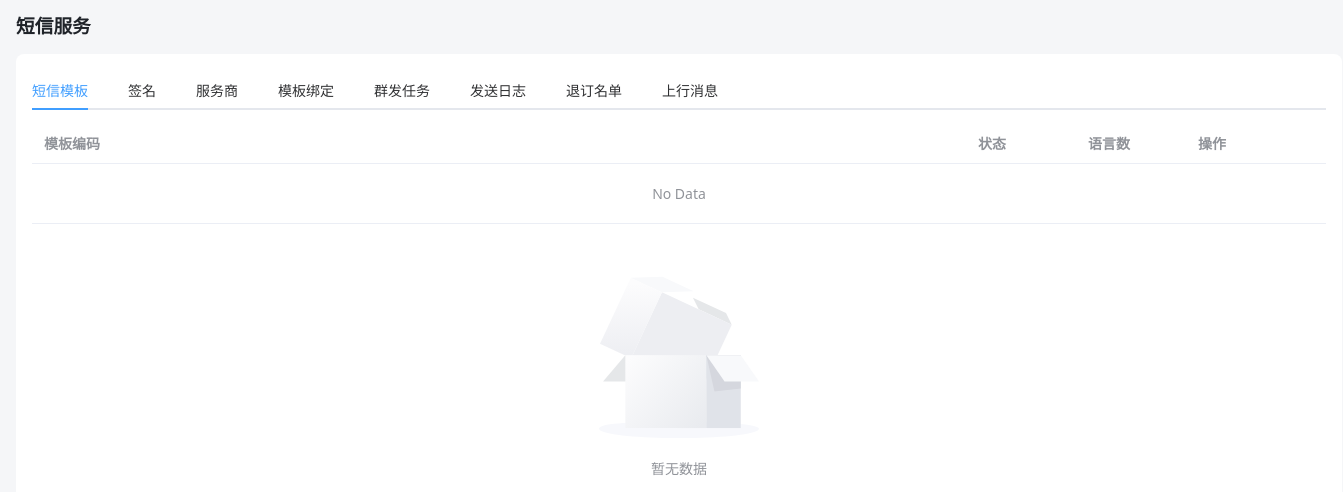
Test: SmsView › 渲染服务商列表
Click the tab "服务商" at coordinates (217, 90), box x1=196 y1=81 x2=238 y2=100
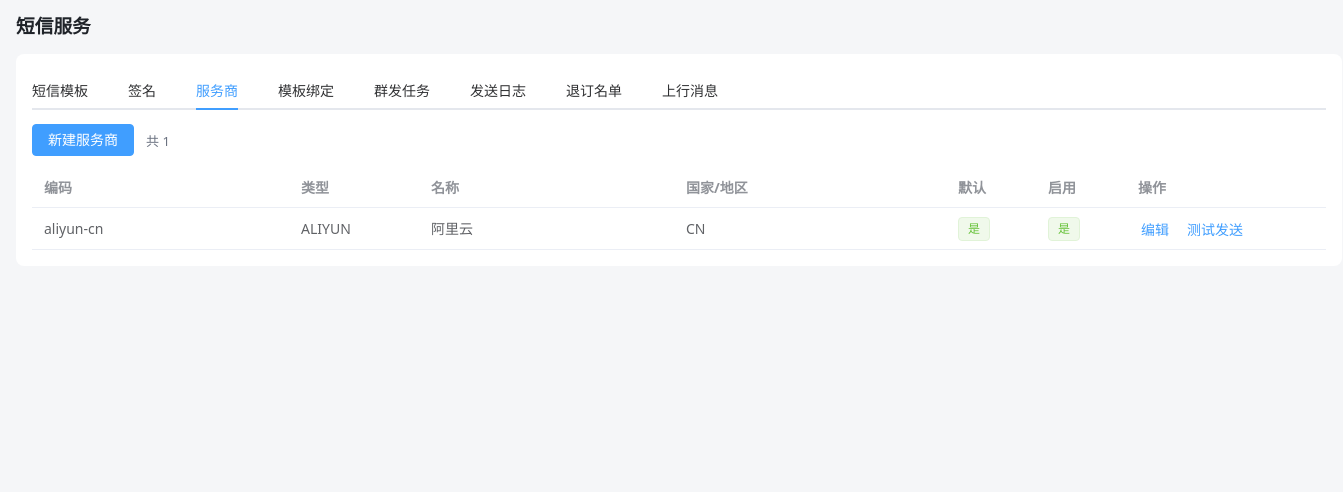
Expected: the text "aliyun-cn" is shown, x1=44 y1=219 x2=103 y2=238
Expected: the text "aliyun" is shown, x1=44 y1=219 x2=103 y2=238
